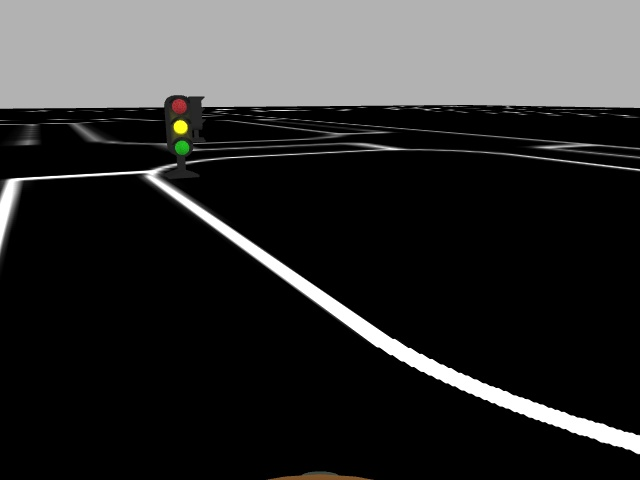yellow_light: (165, 94, 195, 157)
